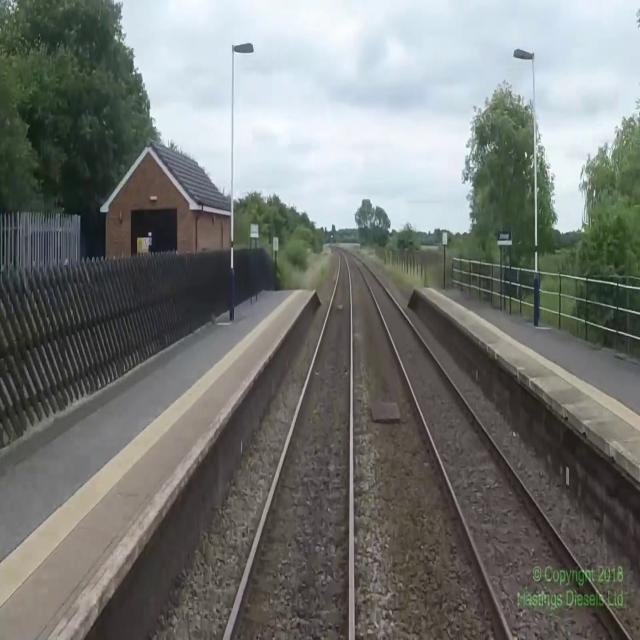rail-track: (351, 254, 627, 639), (227, 249, 350, 639)
